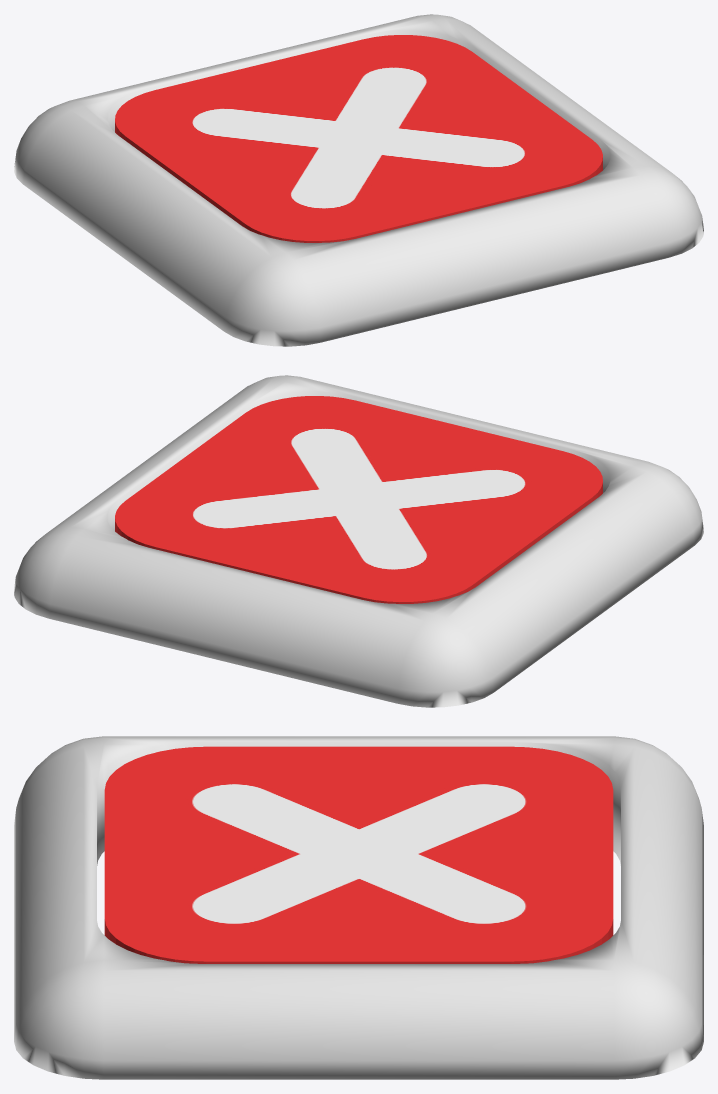
Rendered from marblemaze-models-landmine-hazard-03.fbx.
3 views of the same model, one above another, from view 1: azimuth 30°, elevation 25°; view 2: azimuth 150°, elevation 25°; view 3: azimuth 270°, elevation 25° (orthographic). The views are drawn at different scales.
Parts seen in each view (by area): view 1: Landmine-Base, Landmine-Button; view 2: Landmine-Base, Landmine-Button; view 3: Landmine-Base, Landmine-Button.
Part boxes in pixels (bbox=[...]): Landmine-Base: bbox=[14, 14, 703, 346]; Landmine-Button: bbox=[115, 35, 602, 242]; Landmine-Base: bbox=[14, 375, 703, 707]; Landmine-Button: bbox=[115, 396, 602, 603]; Landmine-Base: bbox=[14, 736, 703, 1079]; Landmine-Button: bbox=[104, 746, 613, 963].
Size of the model in its own units: 100 by 13.09 by 100.
